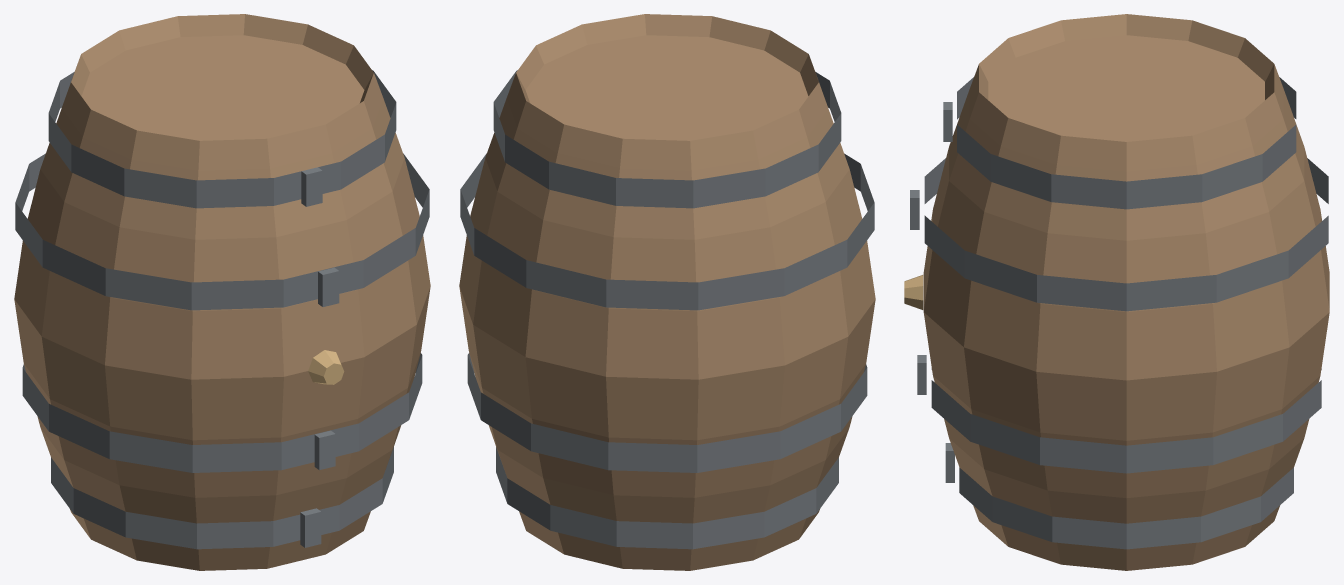
Rendered from barrel.glb.
3 renders of one model, left to right at view 1: azimuth 30°, elevation 25°; view 2: azimuth 150°, elevation 25°; view 3: azimuth 270°, elevation 25°, orthographic.
Visible parts, largest first — view 1: Barrel_Staves, Barrel_Hoops, Barrel_Bung; view 2: Barrel_Staves, Barrel_Hoops; view 3: Barrel_Staves, Barrel_Hoops, Barrel_Bung.
Part boxes in pixels (x1,y1,x2,y2): Barrel_Staves: [14, 14, 430, 570]; Barrel_Hoops: [15, 70, 429, 549]; Barrel_Bung: [308, 350, 344, 384]; Barrel_Staves: [459, 14, 875, 570]; Barrel_Hoops: [460, 70, 874, 549]; Barrel_Staves: [923, 14, 1329, 570]; Barrel_Hoops: [910, 77, 1328, 549]; Barrel_Bung: [904, 275, 923, 309].
Size of the model in its own units: 1.76 by 2 by 1.8.
